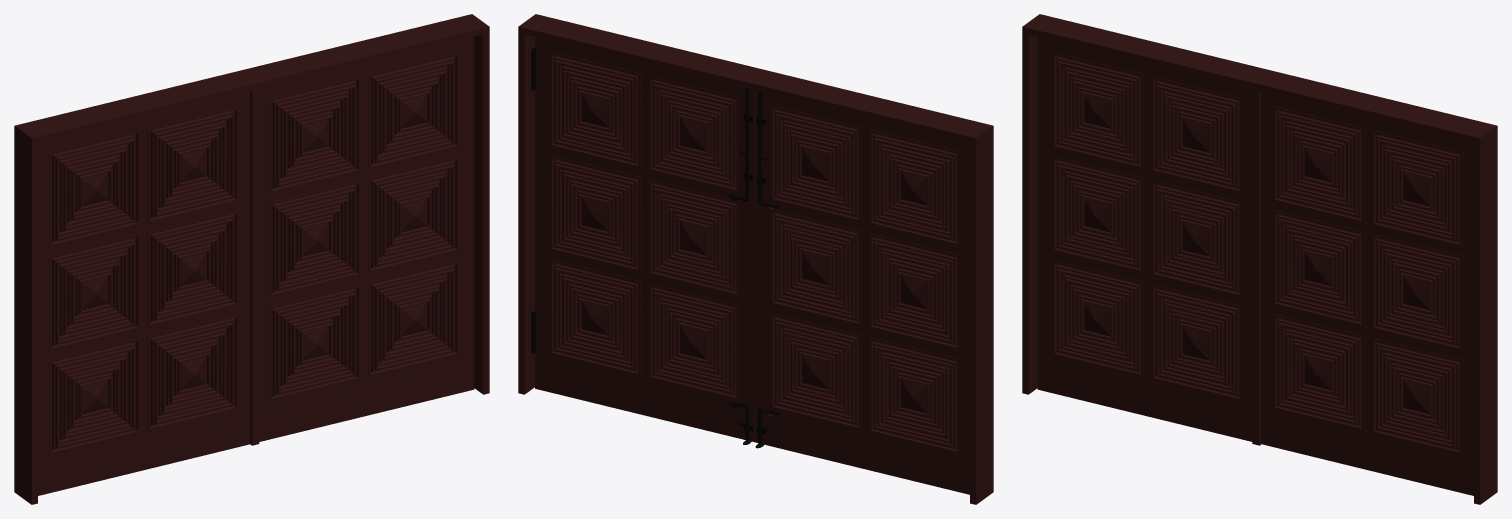
File: FD_door.FBX
The picture shows the model from 3 angles, left to right: view 1: azimuth 30°, elevation 25°; view 2: azimuth 150°, elevation 25°; view 3: azimuth 330°, elevation 25°; orthographic projection.
Parts seen in each view (by area): view 1: Door; view 2: Door; view 3: Door.
Boxes of the visible parts, bbox=[...] form: Door: bbox=[14, 14, 489, 504]; Door: bbox=[518, 14, 993, 504]; Door: bbox=[1022, 14, 1497, 504].
Bounding box in the file's own units: 1261 × 965 × 82.5.
